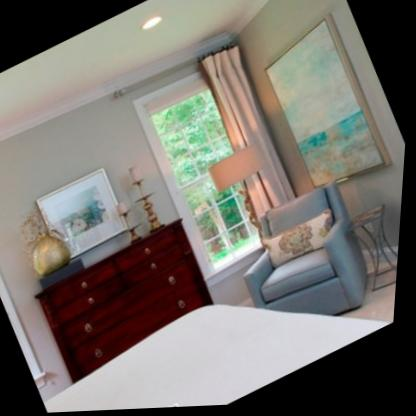Curtains: (201, 47, 300, 207)
Sideboard: (39, 220, 221, 385)
